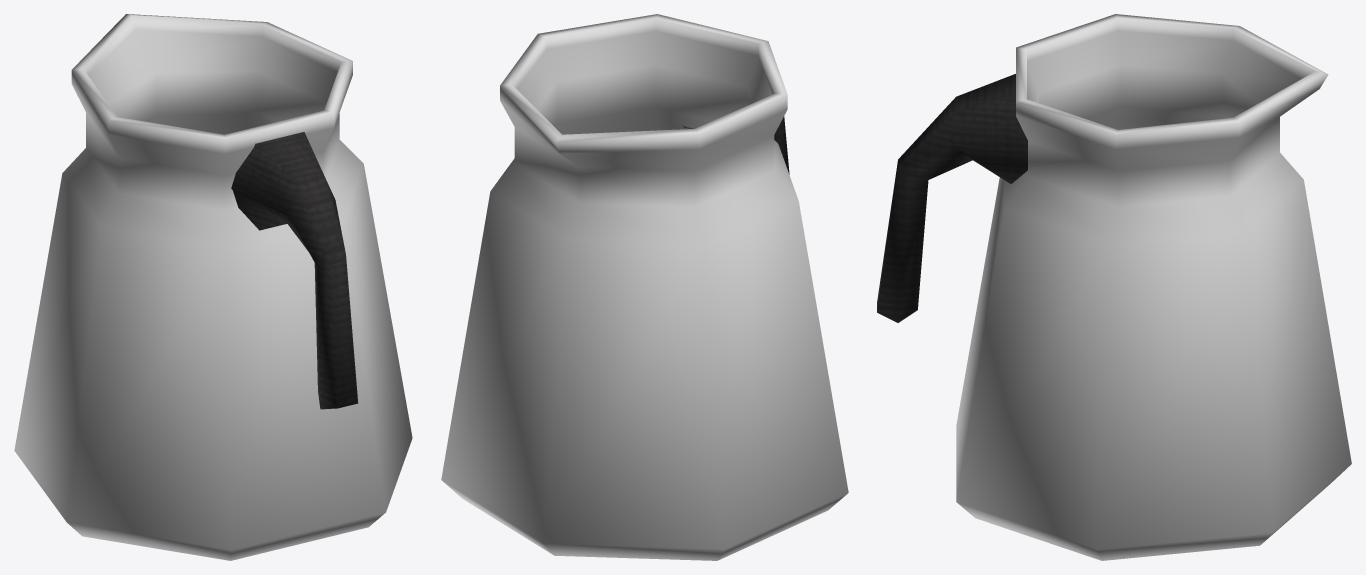
The model's file is Coffee_maker_cup-col.glb.
3 renders of one model, left to right at view 1: azimuth 30°, elevation 25°; view 2: azimuth 150°, elevation 25°; view 3: azimuth 270°, elevation 25°, orthographic. The views are drawn at different scales.
Parts seen in each view (by area): view 1: Coffee_maker_cup-col; view 2: Coffee_maker_cup-col; view 3: Coffee_maker_cup-col.
Boxes of the visible parts, box(x1,y1,x2,y2) form: Coffee_maker_cup-col: box(14, 14, 412, 560); Coffee_maker_cup-col: box(441, 14, 848, 560); Coffee_maker_cup-col: box(877, 14, 1351, 560).
Bounding box in the file's own units: 0.2195 × 0.2464 × 0.2569.
Materials: 2 (1 with a texture image).
